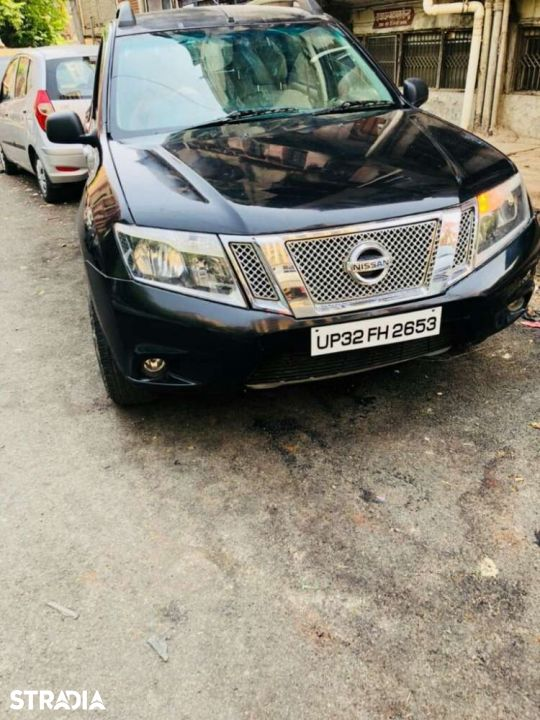number_plate: (299, 313, 452, 350)
